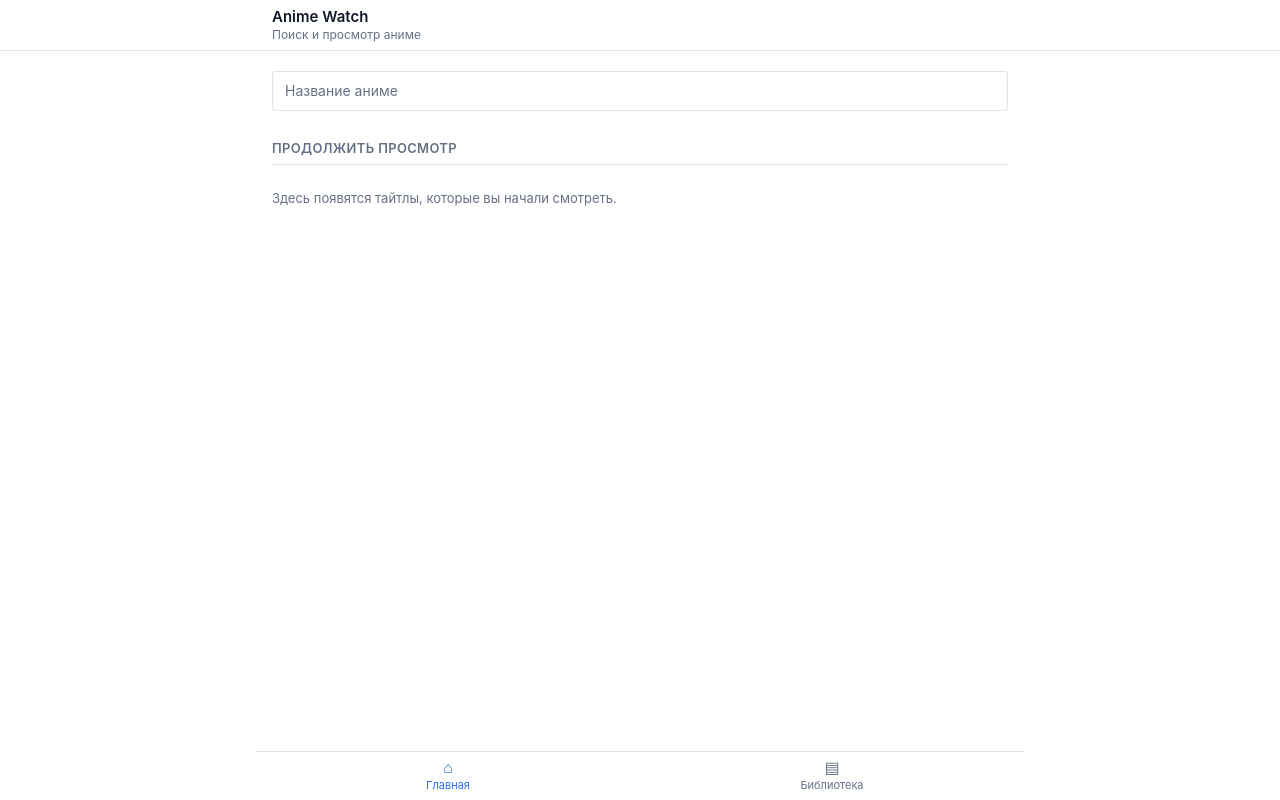
Test: HomePage › shows the results of the search
The width and height of the screenshot is (1280, 800).
In the search field labelled "Название аниме": (640, 91) [272,71,1008,111], type "bebop"
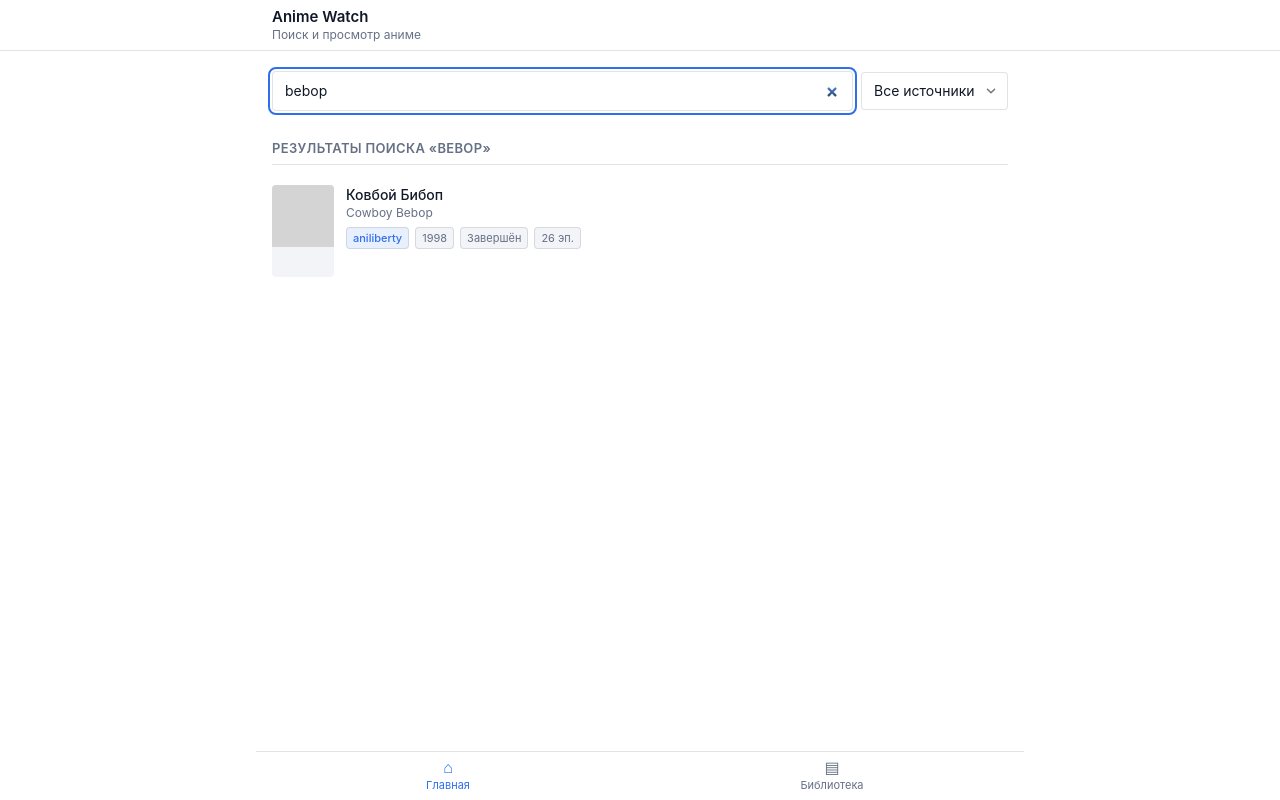
Expected: the heading "Результаты поиска «bebop»" is shown, [272,139,1008,165]
Expected: the text "Ковбой Бибоп" is shown, [346,186,443,203]
